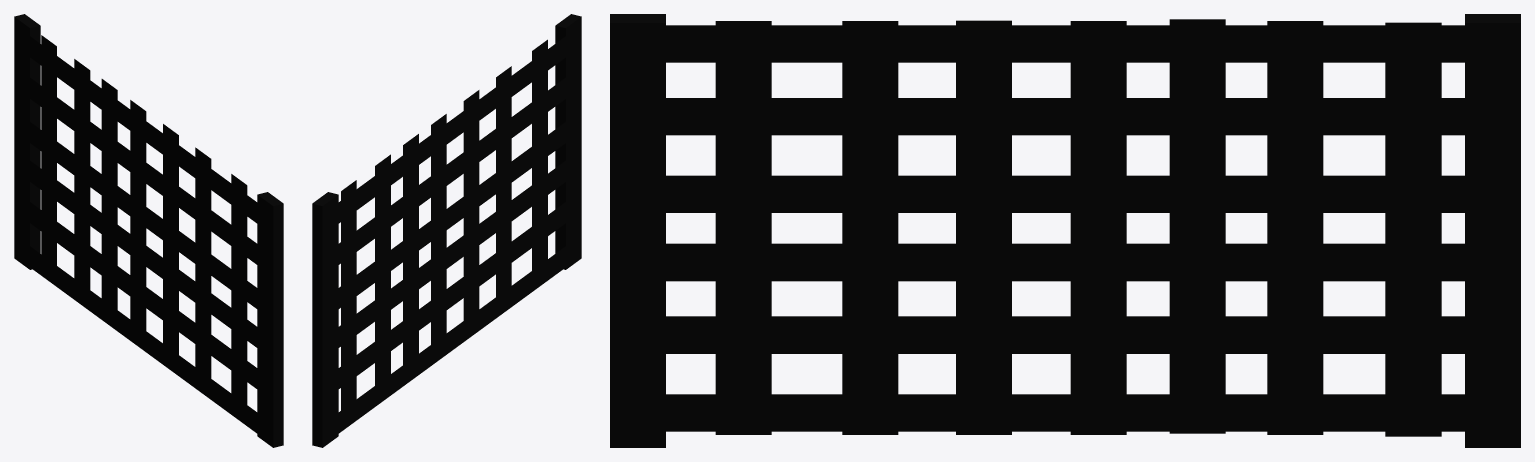
File: Cerca3.fbx
3 views of the same model, side by side, from view 1: azimuth 30°, elevation 25°; view 2: azimuth 150°, elevation 25°; view 3: azimuth 270°, elevation 25° (orthographic). The views are drawn at different scales.
Parts seen in each view (by area): view 1: Cerca3; view 2: Cerca3; view 3: Cerca3.
Boxes of the visible parts, x1=… form: Cerca3: x1=14, y1=14, x2=283, y2=447; Cerca3: x1=312, y1=14, x2=581, y2=447; Cerca3: x1=610, y1=14, x2=1520, y2=447.
Bounding box in the file's own units: 6.3 × 243 × 125.
